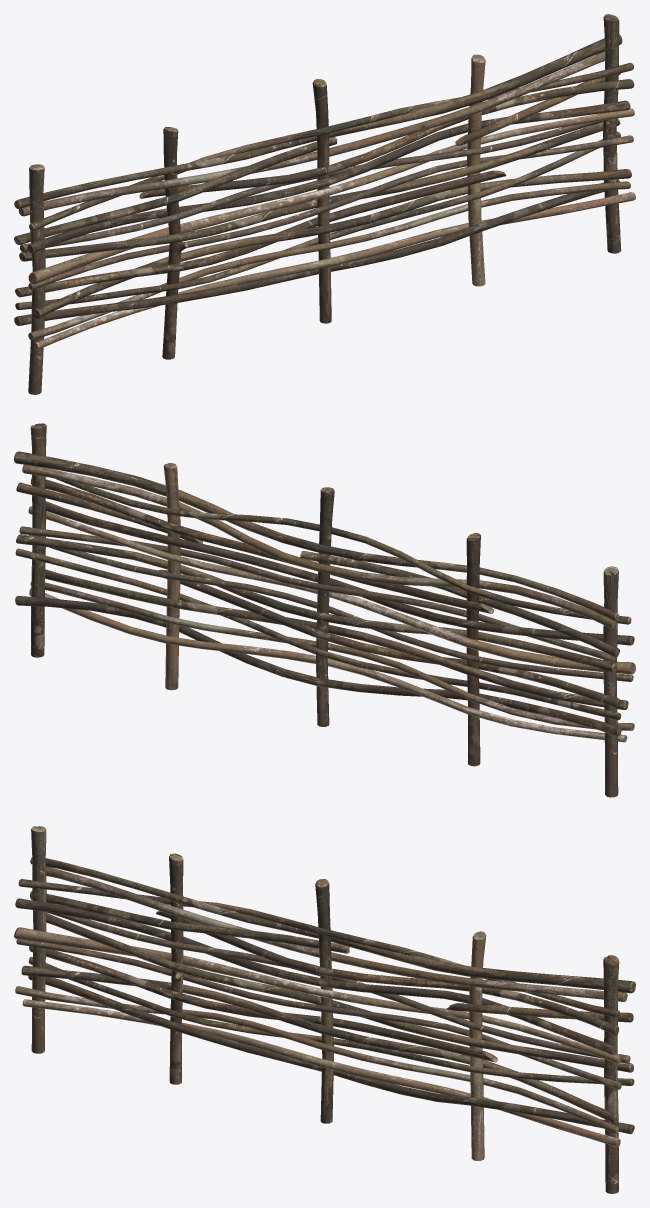
3 views of the same model, one above another, from view 1: azimuth 30°, elevation 25°; view 2: azimuth 150°, elevation 25°; view 3: azimuth 330°, elevation 25° (orthographic).
Visible parts, largest first — view 1: SM_Wicker_Fence_01v2_LOD0; view 2: SM_Wicker_Fence_01v2_LOD0; view 3: SM_Wicker_Fence_01v2_LOD0.
Boxes of the visible parts, x1=… form: SM_Wicker_Fence_01v2_LOD0: x1=14, y1=14, x2=635, y2=394; SM_Wicker_Fence_01v2_LOD0: x1=14, y1=423, x2=635, y2=797; SM_Wicker_Fence_01v2_LOD0: x1=14, y1=826, x2=635, y2=1193.
Size of the model in its own units: 4 by 1.51 by 0.2794.
1 material, 1 textured.
